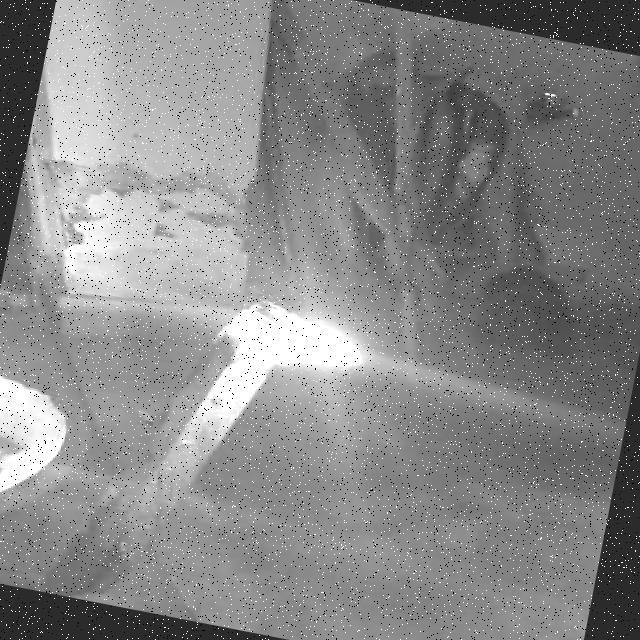Fire: (203, 265, 386, 418)
